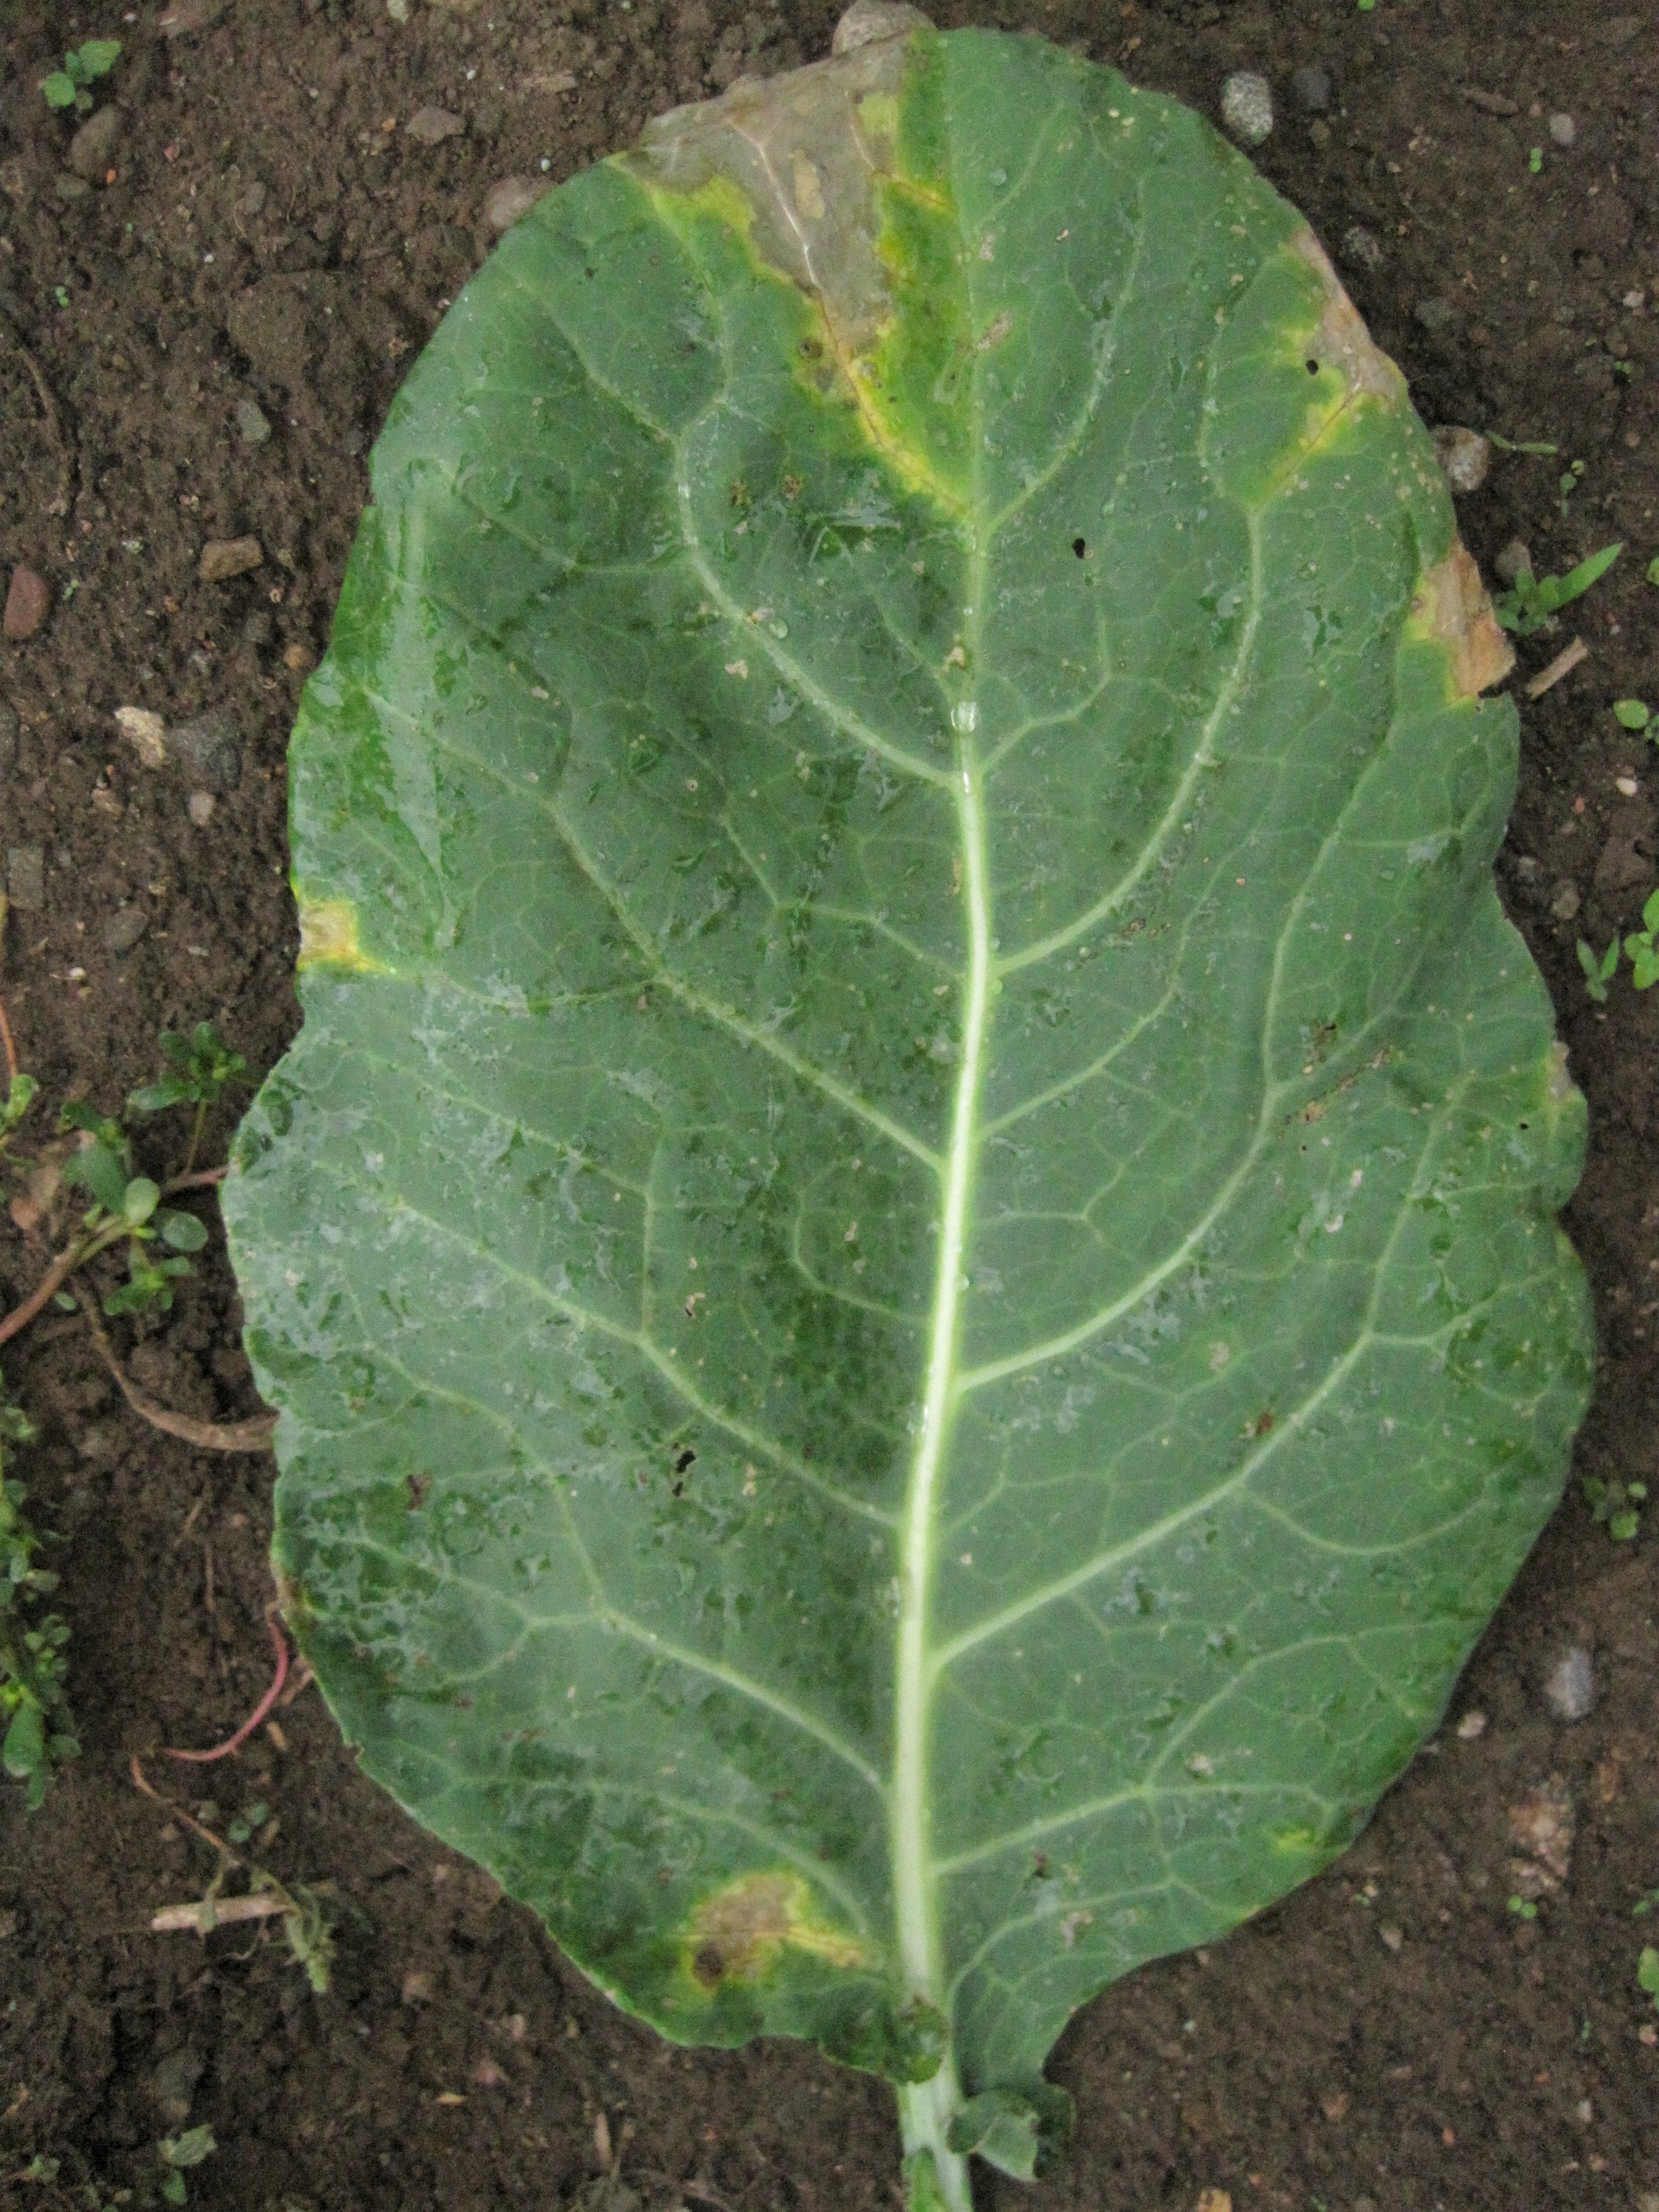Cabbage_BlackRotXantomonas: (335, 73, 1558, 2078)
